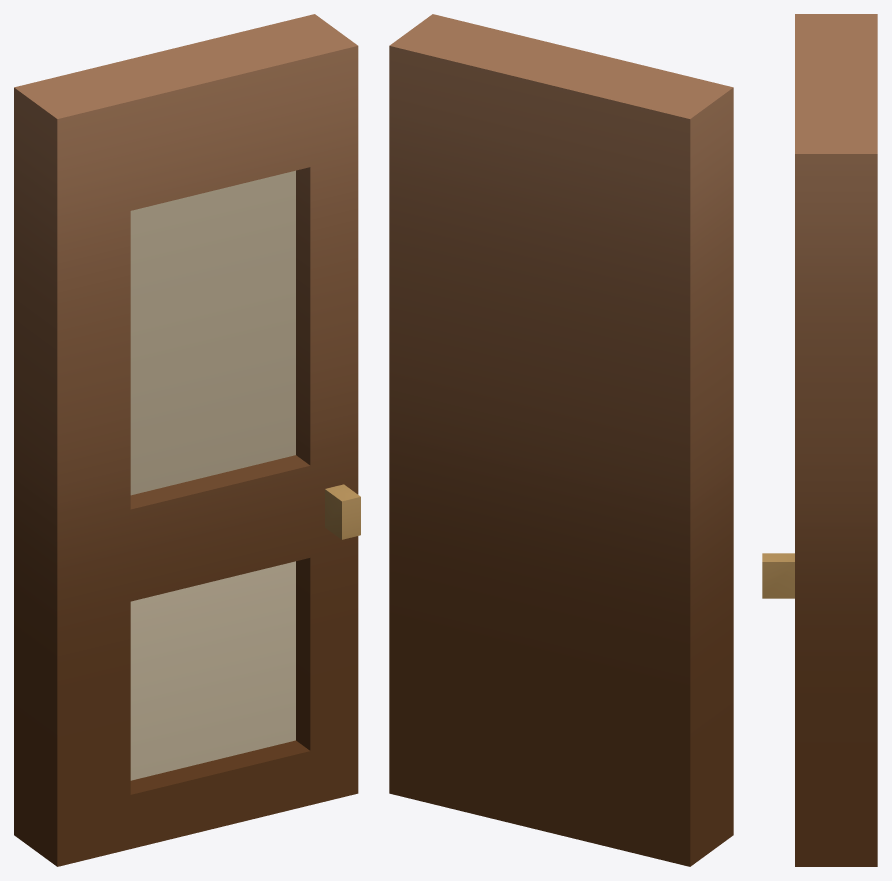
File: Farmhouse_Door_L.gltf
3 views of the same model, side by side, from view 1: azimuth 30°, elevation 25°; view 2: azimuth 150°, elevation 25°; view 3: azimuth 270°, elevation 25° (orthographic). The views are drawn at different scales.
Visible parts, largest first — view 1: Farmhouse_Door_L; view 2: Farmhouse_Door_L; view 3: Farmhouse_Door_L.
Boxes of the visible parts, x1=… form: Farmhouse_Door_L: x1=14, y1=14, x2=360, y2=866; Farmhouse_Door_L: x1=389, y1=14, x2=733, y2=866; Farmhouse_Door_L: x1=762, y1=14, x2=877, y2=866.
Bounding box in the file's own units: 0.8 × 1.9 × 0.2785.
1 material, 1 textured.
